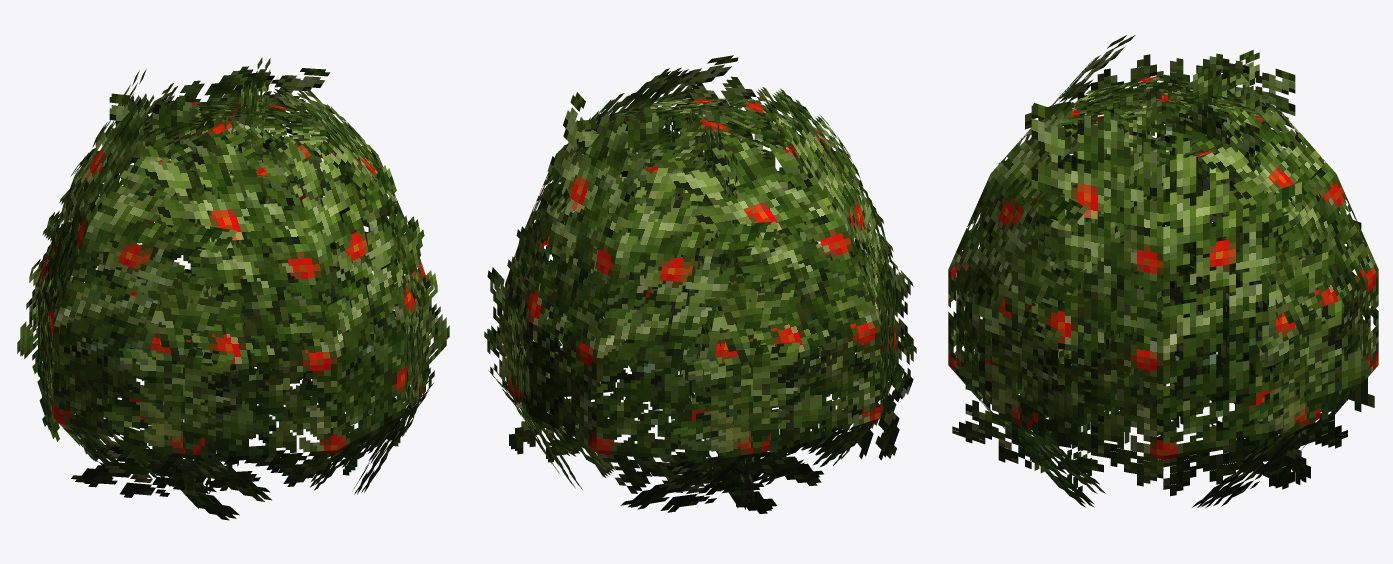
Rendered from bush3.glb.
3 views of the same model, side by side, from view 1: azimuth 30°, elevation 25°; view 2: azimuth 150°, elevation 25°; view 3: azimuth 270°, elevation 25° (orthographic). The views are drawn at different scales.
Parts seen in each view (by area): view 1: bush3; view 2: bush3; view 3: bush3.
Part boxes in pixels (bbox=[...]): bush3: bbox=[17, 57, 449, 520]; bush3: bbox=[484, 55, 916, 513]; bush3: bbox=[948, 35, 1378, 507].
Size of the model in its own units: 1.02 by 1 by 1.02.
Materials: 1 (1 with a texture image).
